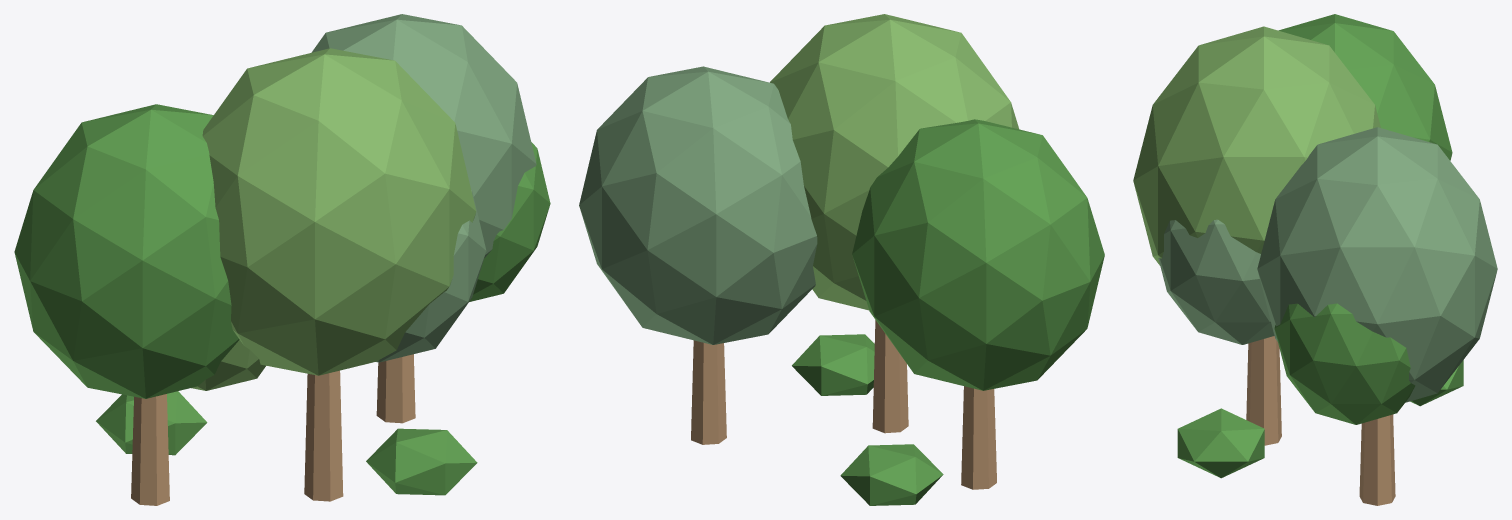
Rendered from deco_tree_cluster_b.glb.
3 views of the same model, side by side, from view 1: azimuth 30°, elevation 25°; view 2: azimuth 150°, elevation 25°; view 3: azimuth 270°, elevation 25° (orthographic). The views are drawn at different scales.
Parts seen in each view (by area): view 1: deco_tree_cluster_b; view 2: deco_tree_cluster_b; view 3: deco_tree_cluster_b.
Boxes of the visible parts, x1,y1,x2,y2 form: deco_tree_cluster_b: (14,14,550,505); deco_tree_cluster_b: (579,14,1104,505); deco_tree_cluster_b: (1133,14,1497,505).
Bounding box in the file's own units: 3.88 × 3.12 × 2.57.
1 material, 1 textured.
